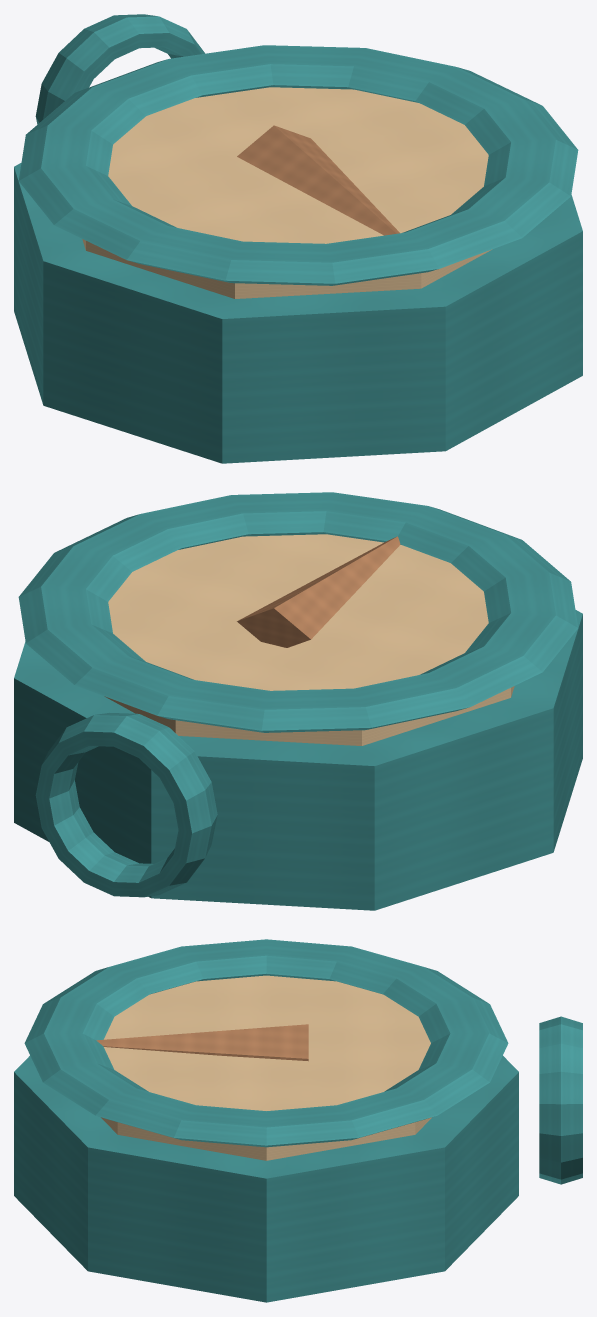
File: atlas100-s099-a05.glb
3 renders of one model, top to bottom at view 1: azimuth 30°, elevation 25°; view 2: azimuth 150°, elevation 25°; view 3: azimuth 270°, elevation 25°, orthographic. The views are drawn at different scales.
Parts seen in each view (by area): view 1: atlas100-s099-a05:part-000, atlas100-s099-a05:part-003, atlas100-s099-a05:part-001, atlas100-s099-a05:part-004, atlas100-s099-a05:part-002; view 2: atlas100-s099-a05:part-000, atlas100-s099-a05:part-003, atlas100-s099-a05:part-001, atlas100-s099-a05:part-004, atlas100-s099-a05:part-002; view 3: atlas100-s099-a05:part-000, atlas100-s099-a05:part-003, atlas100-s099-a05:part-001, atlas100-s099-a05:part-004, atlas100-s099-a05:part-002.
Part boxes in pixels (x1,y1,x2,y2): atlas100-s099-a05:part-000: (14, 163, 582, 463); atlas100-s099-a05:part-003: (18, 45, 578, 285); atlas100-s099-a05:part-001: (82, 87, 492, 298); atlas100-s099-a05:part-004: (35, 14, 204, 124); atlas100-s099-a05:part-002: (237, 125, 399, 235); atlas100-s099-a05:part-000: (14, 610, 582, 910); atlas100-s099-a05:part-003: (18, 492, 578, 732); atlas100-s099-a05:part-001: (104, 534, 514, 745); atlas100-s099-a05:part-004: (35, 712, 217, 897); atlas100-s099-a05:part-002: (237, 536, 400, 647); atlas100-s099-a05:part-000: (14, 1055, 518, 1302); atlas100-s099-a05:part-003: (24, 939, 508, 1147); atlas100-s099-a05:part-001: (101, 975, 431, 1160); atlas100-s099-a05:part-004: (539, 1016, 582, 1184); atlas100-s099-a05:part-002: (96, 1024, 308, 1061).
Bounding box in the file's own units: 0.5242 × 0.1966 × 0.5905.
Materials: 3 (3 with a texture image).
